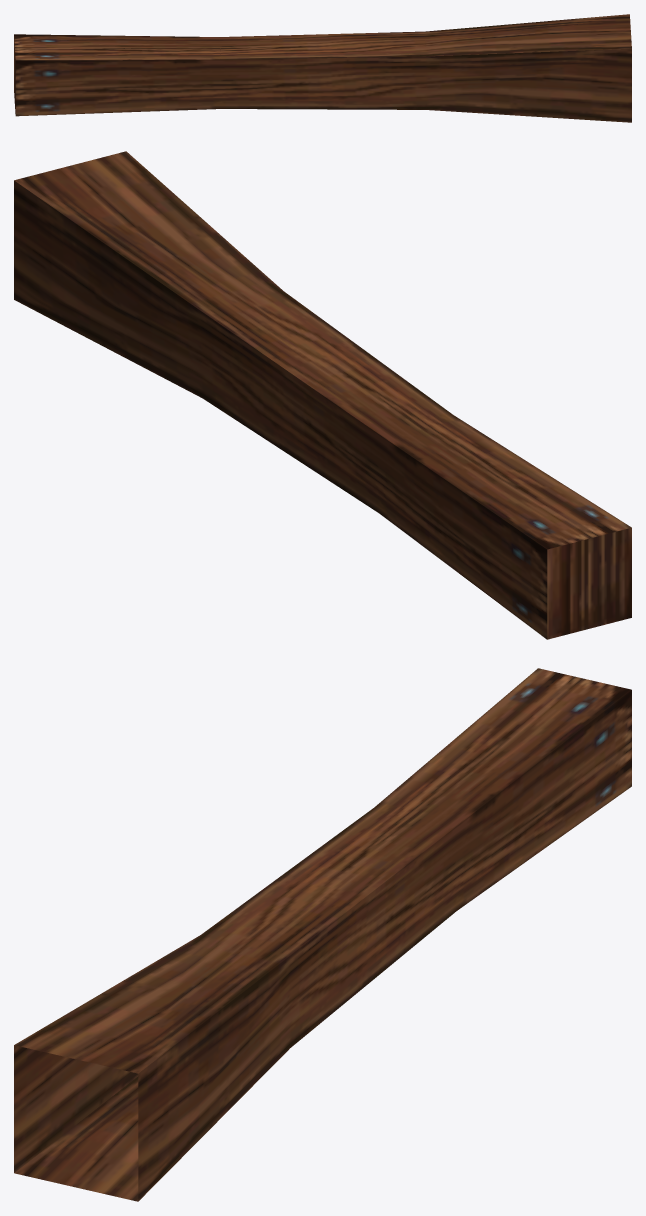
The model's file is OVERHILL_A_01_POST29.fbx.
The picture shows the model from 3 angles, top to bottom: view 1: azimuth 30°, elevation 25°; view 2: azimuth 150°, elevation 25°; view 3: azimuth 270°, elevation 25°; orthographic projection. The views are drawn at different scales.
Parts seen in each view (by area): view 1: OVERHILL_A_01_POST29; view 2: OVERHILL_A_01_POST29; view 3: OVERHILL_A_01_POST29.
Part boxes in pixels (x1,y1,x2,y2): OVERHILL_A_01_POST29: [14, 14, 631, 122]; OVERHILL_A_01_POST29: [14, 151, 631, 639]; OVERHILL_A_01_POST29: [14, 668, 631, 1201].
Size of the model in its own units: 15684 by 2225 by 9726.
Materials: 1 (1 with a texture image).
